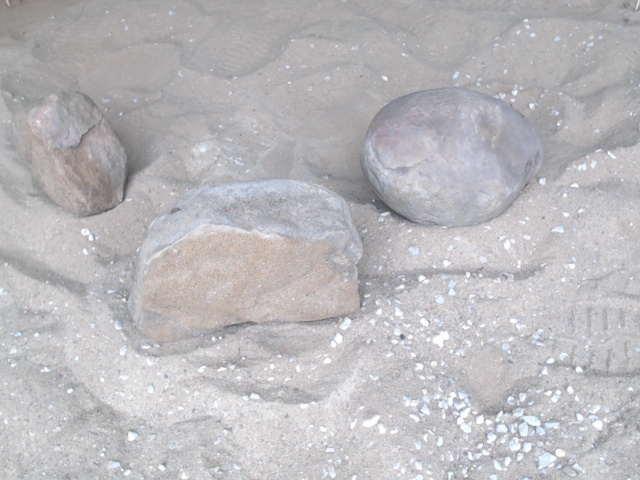rock: (123, 170, 366, 348), (354, 80, 548, 236), (6, 85, 133, 222)
